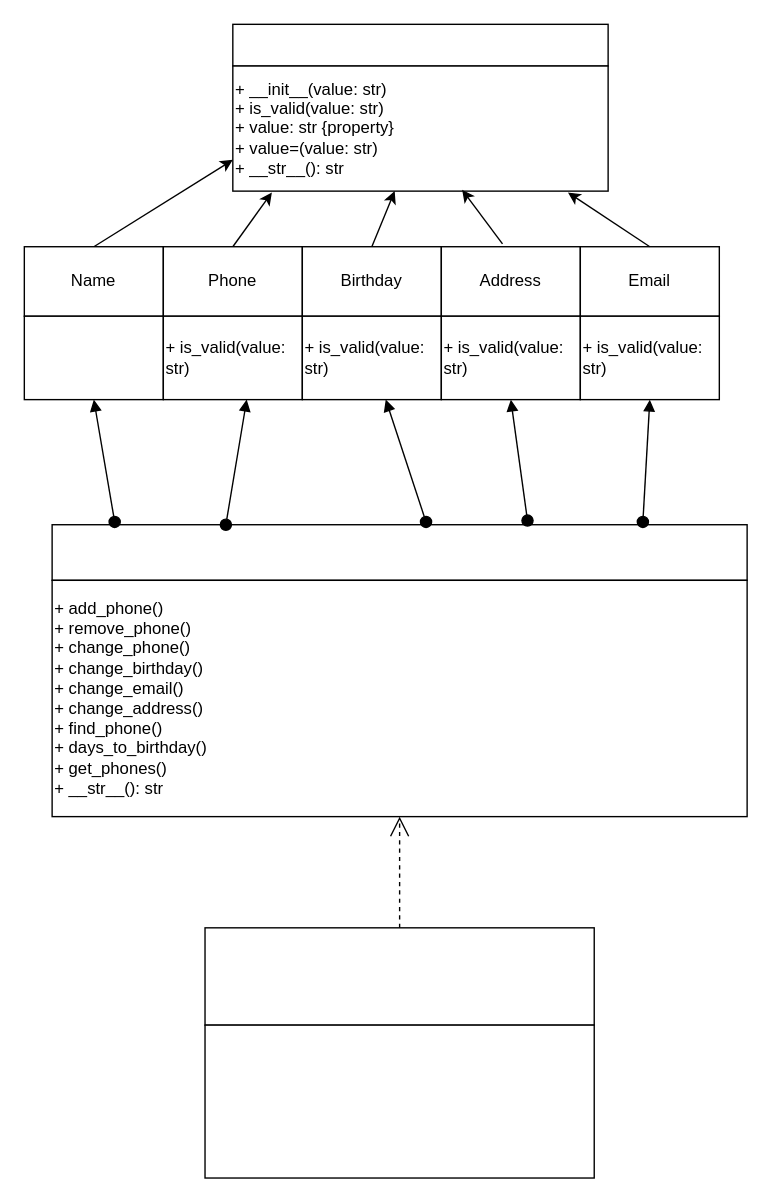
Some shapes in this 771 by 1202 pixel diagram are drawn without their labels. The centre of each missing label's shape, as x and y in pixels:
+ add_record() + find() + delete() + iterator() + get_records() + __str__(): point 399,1101
AddressBook: point 399,975
FIELD: point 419,44
Record: point 399,551
